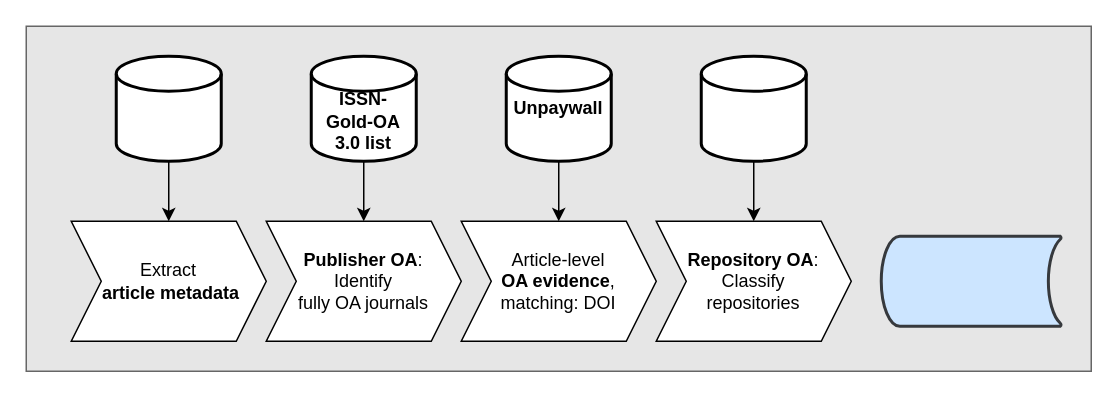
Some shapes in this 1118 by 398 pixel diagram are drawn without their labels. Each missing label, with the centre of its shape:
Article metadata with OA categories: [970,280]
OpenDOAR: [753,108]
WoS-KB: [168,108]
